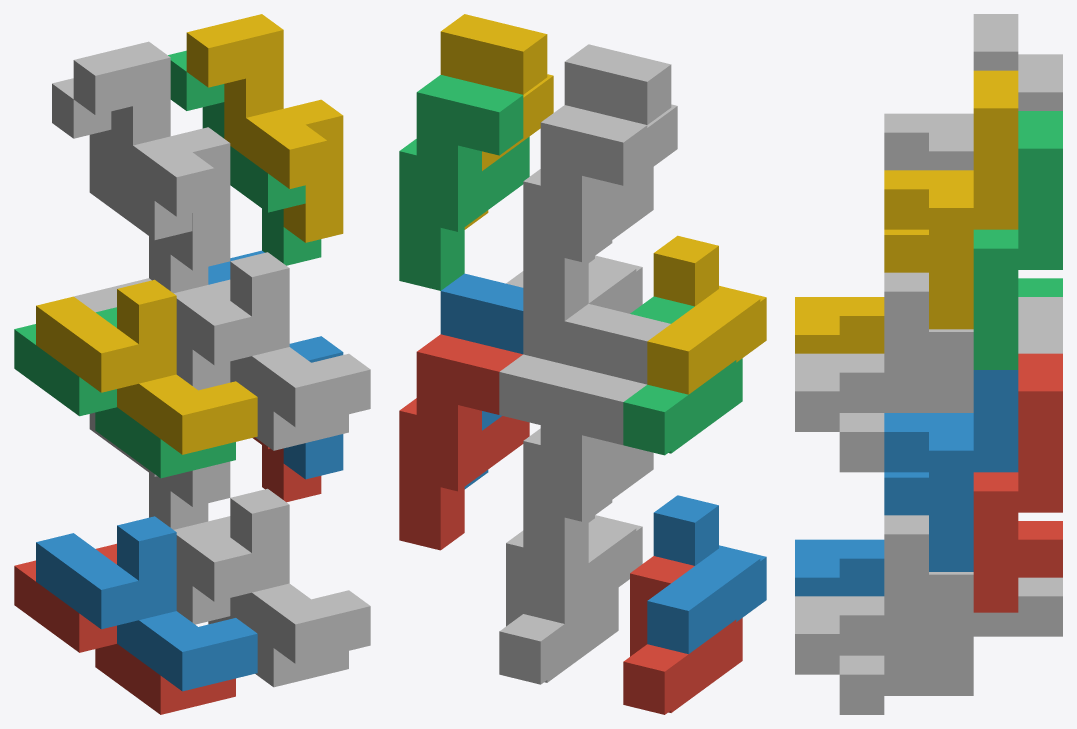
The model's file is tiling.obj.
3 views of the same model, side by side, from view 1: azimuth 30°, elevation 25°; view 2: azimuth 150°, elevation 25°; view 3: azimuth 270°, elevation 25° (orthographic). The views are drawn at different scales.
Visible parts, largest first — view 1: copy_1_domain_2, copy_1_domain_4, copy_2_domain_4, copy_2_domain_8, copy_1_domain_6, copy_1_domain_8, copy_2_domain_3, copy_1_domain_1, copy_1_domain_3, copy_2_domain_7, copy_1_domain_5, copy_1_domain_7 (+4 smaller); view 2: copy_2_domain_3, copy_2_domain_7, copy_2_domain_1, copy_2_domain_5, copy_1_domain_4, copy_1_domain_2, copy_1_domain_1, copy_2_domain_4, copy_2_domain_8, copy_1_domain_5, copy_1_domain_3, copy_1_domain_6 (+4 smaller); view 3: copy_2_domain_8, copy_2_domain_6, copy_1_domain_5, copy_2_domain_5, copy_2_domain_7, copy_1_domain_6, copy_1_domain_8, copy_2_domain_4, copy_1_domain_7, copy_1_domain_2, copy_1_domain_4, copy_1_domain_1 (+3 smaller).
Boxes of the visible parts, left/top/right/bottom form: copy_1_domain_2: left=36, top=516, right=257, bottom=691; copy_1_domain_4: left=36, top=279, right=257, bottom=454; copy_2_domain_4: left=73, top=41, right=230, bottom=270; copy_2_domain_8: left=186, top=14, right=343, bottom=242; copy_1_domain_6: left=149, top=488, right=370, bottom=663; copy_1_domain_8: left=174, top=252, right=370, bottom=427; copy_2_domain_3: left=52, top=78, right=208, bottom=293; copy_1_domain_1: left=14, top=543, right=235, bottom=714; copy_1_domain_3: left=14, top=307, right=235, bottom=478; copy_2_domain_7: left=168, top=50, right=321, bottom=265; copy_1_domain_5: left=176, top=516, right=348, bottom=687; copy_1_domain_7: left=176, top=279, right=348, bottom=450; copy_2_domain_3: left=523, top=105, right=653, bottom=320; copy_2_domain_7: left=399, top=75, right=529, bottom=290; copy_2_domain_1: left=523, top=364, right=653, bottom=580; copy_2_domain_5: left=399, top=334, right=529, bottom=550; copy_1_domain_4: left=647, top=235, right=766, bottom=394; copy_1_domain_2: left=647, top=495, right=766, bottom=653; copy_1_domain_1: left=623, top=556, right=742, bottom=714; copy_2_domain_4: left=564, top=44, right=677, bottom=259; copy_2_domain_8: left=440, top=14, right=553, bottom=229; copy_1_domain_5: left=499, top=530, right=618, bottom=684; copy_1_domain_3: left=623, top=296, right=742, bottom=455; copy_1_domain_6: left=523, top=515, right=642, bottom=623; copy_2_domain_8: left=884, top=70, right=1018, bottom=329; copy_2_domain_6: left=884, top=370, right=1018, bottom=571; copy_1_domain_5: left=839, top=572, right=1062, bottom=714; copy_2_domain_5: left=973, top=353, right=1062, bottom=612; copy_2_domain_7: left=973, top=111, right=1062, bottom=369; copy_1_domain_6: left=795, top=515, right=928, bottom=674; copy_1_domain_8: left=795, top=272, right=928, bottom=431; copy_2_domain_4: left=884, top=14, right=1018, bottom=170; copy_1_domain_7: left=839, top=329, right=1062, bottom=472; copy_1_domain_2: left=795, top=472, right=928, bottom=596; copy_1_domain_4: left=795, top=229, right=928, bottom=353; copy_1_domain_1: left=1018, top=521, right=1062, bottom=577.
Bounding box in the file's own units: 7 × 15 × 6.
